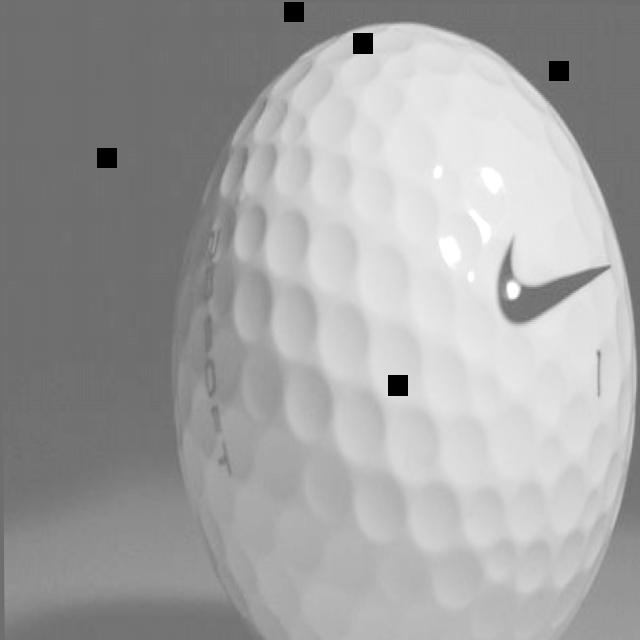golf ball: (169, 7, 640, 640)
